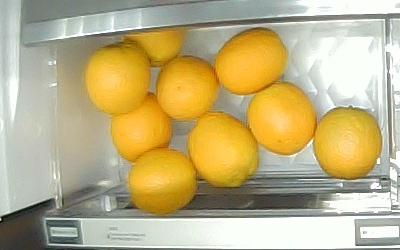orange: (186, 112, 259, 188), (246, 80, 318, 156), (313, 105, 382, 180), (214, 27, 288, 95), (85, 42, 151, 114), (128, 148, 198, 214), (111, 92, 173, 162), (156, 55, 218, 121), (122, 27, 187, 67)
